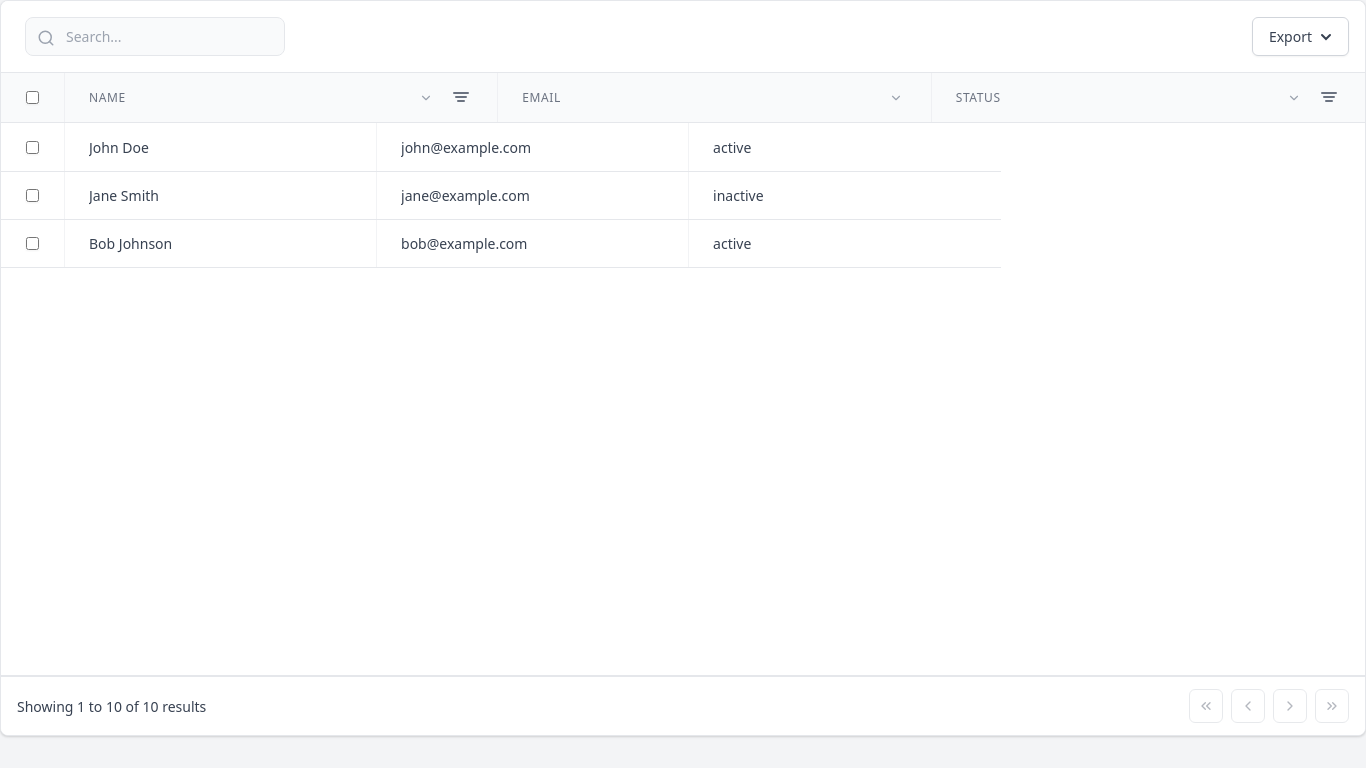
Test case: DataTable › handles searching
Type "John" into the field with placeholder "Search..." at [155, 36], box 25,17 -> 285,56
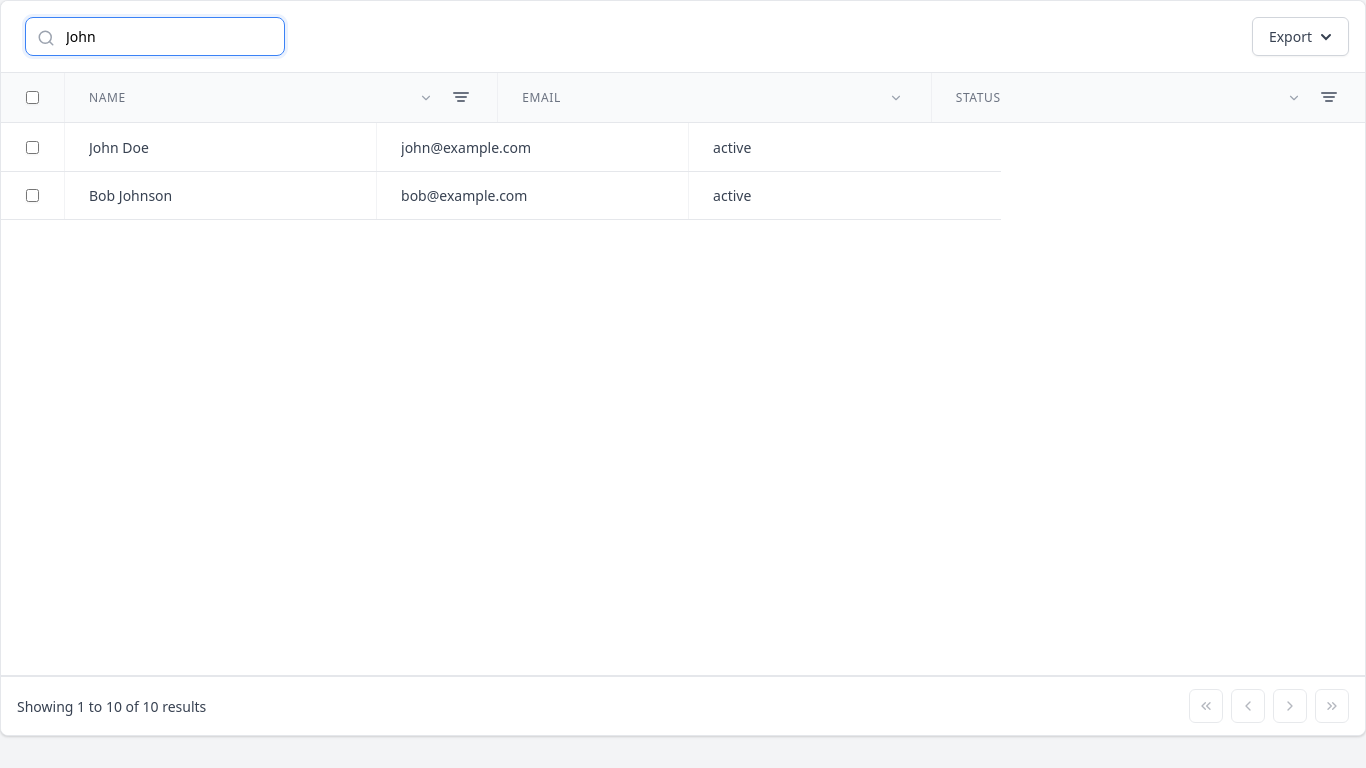
Expected: the text "John Doe" is shown, 89,138 -> 149,156
Expected: the text "Jane Smith" is gone
